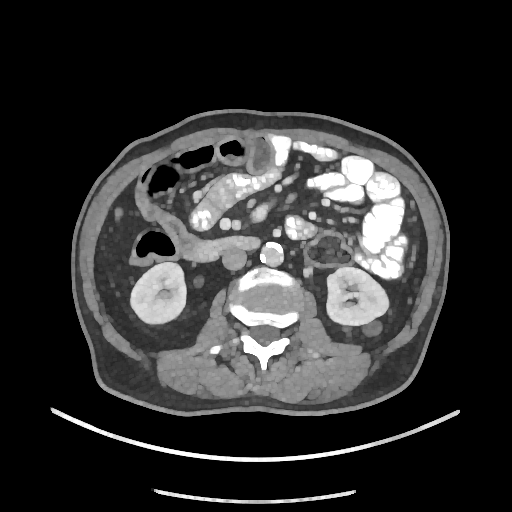Lesion: (358, 315, 387, 340)
